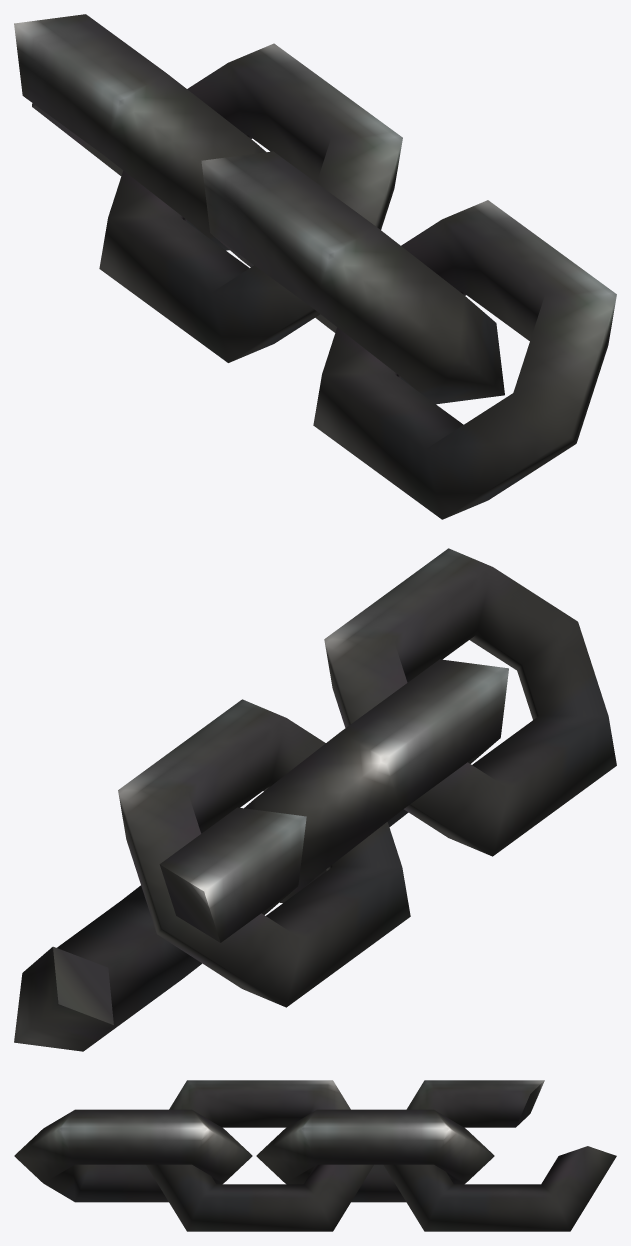
The model's file is Battle01_DemoIronchain_02.FBX.
The picture shows the model from 3 angles, top to bottom: view 1: azimuth 30°, elevation 25°; view 2: azimuth 150°, elevation 25°; view 3: azimuth 270°, elevation 25°; orthographic projection. The views are drawn at different scales.
Parts seen in each view (by area): view 1: C01_DemoIronchain_02; view 2: C01_DemoIronchain_02; view 3: C01_DemoIronchain_02.
Part boxes in pixels (box(x1,y1,x2,y2)): C01_DemoIronchain_02: box(14, 14, 616, 519); C01_DemoIronchain_02: box(14, 548, 616, 1051); C01_DemoIronchain_02: box(14, 1080, 616, 1231).
Bounding box in the file's own units: 0.2093 × 0.2093 × 1.05.
